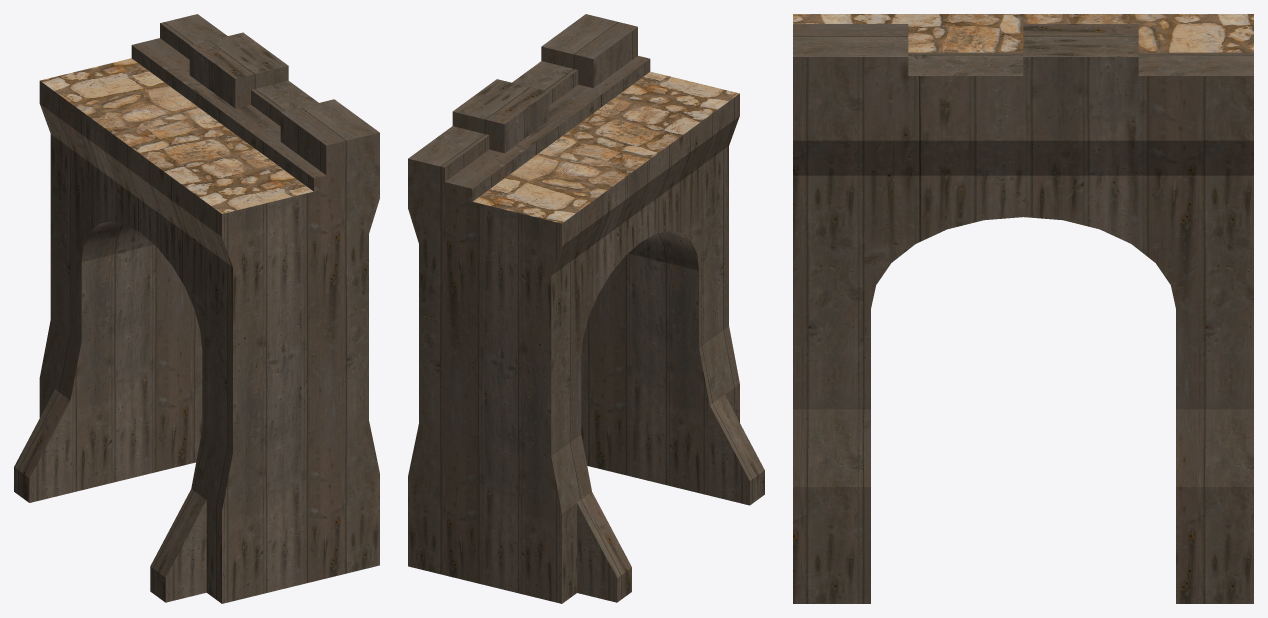
The model's file is castle-gate.glb.
3 renders of one model, left to right at view 1: azimuth 30°, elevation 25°; view 2: azimuth 150°, elevation 25°; view 3: azimuth 270°, elevation 25°, orthographic. The views are drawn at different scales.
Parts seen in each view (by area): view 1: wall-narrow-gate; view 2: wall-narrow-gate; view 3: wall-narrow-gate.
Boxes of the visible parts, x1,y1,x2,y2 form: wall-narrow-gate: (14,14,379,603); wall-narrow-gate: (408,14,764,603); wall-narrow-gate: (793,14,1253,603).
Size of the model in its own units: 0.63 by 1.31 by 1.
Materials: 2 (2 with a texture image).
